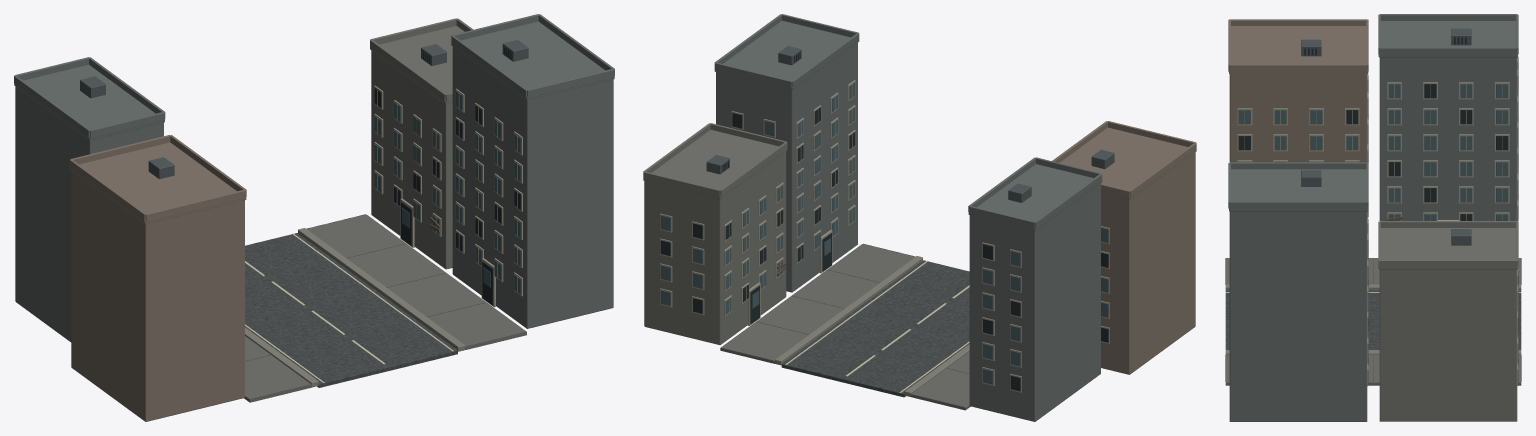
File: city_block_b.glb
The picture shows the model from 3 angles, left to right: view 1: azimuth 30°, elevation 25°; view 2: azimuth 150°, elevation 25°; view 3: azimuth 270°, elevation 25°; orthographic projection. The views are drawn at different scales.
Visible parts, largest first — view 1: CITY_wall_69716e, CITY_wall_82766b.001, CITY_asphalt_comic.001, CITY_wall_74766f.001, CITY_sidewalk.001, CITY_roof_69716e, CITY_roof_82766b.001, CITY_window_frame.001, CITY_window_glass.001, CITY_roof_74766f.001, CITY_curb.001, CITY_window_ink.001 (+2 smaller); view 2: CITY_wall_69716e, CITY_wall_74766f.001, CITY_wall_82766b.001, CITY_asphalt_comic.001, CITY_sidewalk.001, CITY_roof_69716e, CITY_window_frame.001, CITY_window_glass.001, CITY_roof_82766b.001, CITY_roof_74766f.001, CITY_window_ink.001, CITY_curb.001 (+2 smaller); view 3: CITY_wall_69716e, CITY_wall_74766f.001, CITY_wall_82766b.001, CITY_roof_69716e, CITY_roof_82766b.001, CITY_window_frame.001, CITY_window_glass.001, CITY_roof_74766f.001, CITY_window_ink.001, CITY_painted_metal.001, CITY_asphalt_comic.001, CITY_sidewalk.001.
Part boxes in pixels (bbox=[...]): CITY_wall_69716e: bbox=[14, 14, 614, 342]; CITY_wall_82766b.001: bbox=[69, 135, 246, 421]; CITY_asphalt_comic.001: bbox=[245, 233, 457, 387]; CITY_wall_74766f.001: bbox=[370, 18, 473, 269]; CITY_sidewalk.001: bbox=[244, 214, 526, 402]; CITY_roof_69716e: bbox=[14, 21, 614, 140]; CITY_roof_82766b.001: bbox=[70, 142, 246, 224]; CITY_window_frame.001: bbox=[374, 85, 522, 307]; CITY_window_glass.001: bbox=[374, 91, 520, 294]; CITY_roof_74766f.001: bbox=[370, 26, 464, 104]; CITY_curb.001: bbox=[245, 228, 465, 387]; CITY_window_ink.001: bbox=[374, 47, 520, 305]; CITY_wall_69716e: bbox=[714, 14, 1102, 421]; CITY_wall_74766f.001: bbox=[643, 123, 787, 344]; CITY_wall_82766b.001: bbox=[1052, 121, 1196, 374]; CITY_asphalt_comic.001: bbox=[781, 260, 969, 397]; CITY_sidewalk.001: bbox=[720, 244, 970, 410]; CITY_roof_69716e: bbox=[714, 20, 1102, 231]; CITY_window_frame.001: bbox=[660, 80, 1109, 392]; CITY_window_glass.001: bbox=[660, 82, 1108, 384]; CITY_roof_82766b.001: bbox=[1060, 127, 1196, 199]; CITY_roof_74766f.001: bbox=[643, 130, 787, 199]; CITY_window_ink.001: bbox=[660, 52, 1108, 391]; CITY_curb.001: bbox=[775, 256, 969, 396]; CITY_wall_69716e: bbox=[1228, 14, 1518, 421]; CITY_wall_74766f.001: bbox=[1378, 221, 1518, 421]; CITY_wall_82766b.001: bbox=[1228, 19, 1368, 162]; CITY_roof_69716e: bbox=[1229, 21, 1517, 211]; CITY_roof_82766b.001: bbox=[1229, 26, 1368, 73]; CITY_window_frame.001: bbox=[1237, 56, 1518, 386]; CITY_window_glass.001: bbox=[1238, 57, 1518, 383]; CITY_roof_74766f.001: bbox=[1378, 228, 1517, 269]; CITY_window_ink.001: bbox=[1238, 37, 1518, 365]; CITY_painted_metal.001: bbox=[1301, 28, 1471, 245]; CITY_asphalt_comic.001: bbox=[1225, 290, 1521, 349]; CITY_sidewalk.001: bbox=[1225, 258, 1521, 385].
Bounding box in the file's own units: 27.08 × 13.7 × 16.03.
16 materials, 1 textured.
